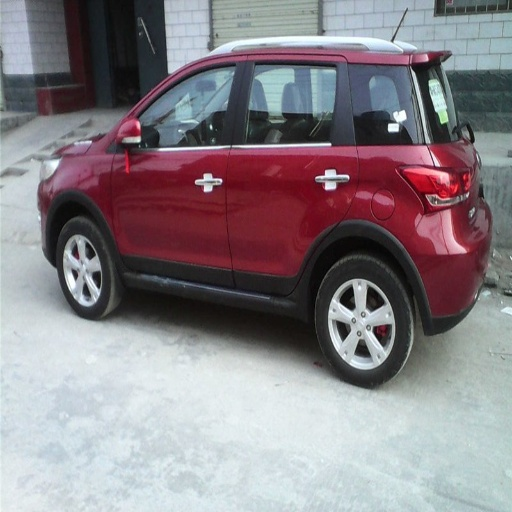back_bumper: (421, 257, 479, 330)
back_glass: (373, 66, 420, 111)
back_left_door: (227, 54, 358, 301)
